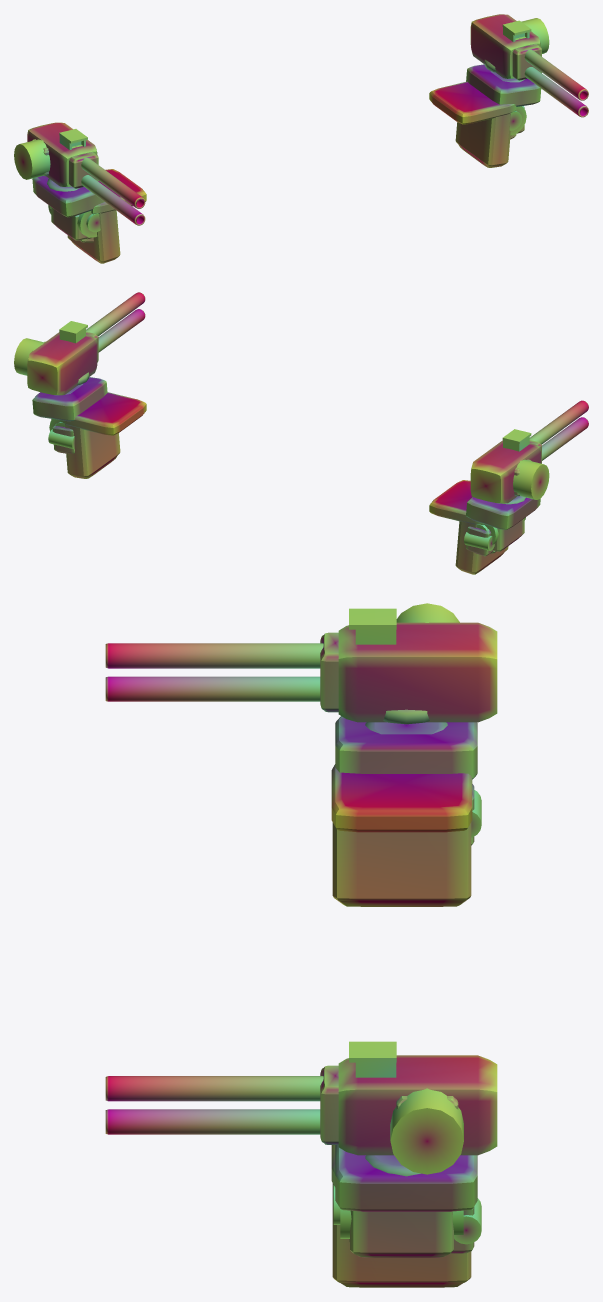
Rendered from llm_gen_shoulder_pods_082_828ca7.glb.
3 views of the same model, one above another, from view 1: azimuth 30°, elevation 25°; view 2: azimuth 150°, elevation 25°; view 3: azimuth 270°, elevation 25° (orthographic). The views are drawn at different scales.
Visible parts, largest first — view 1: adapter_shoulder_yoke_r, adapter_shoulder_yoke_l, turret_breech_2_cobalt_anodized_r, turret_adapter_base_0_adapter_dark_r, turret_breech_2_cobalt_anodized_l, turret_adapter_base_0_adapter_dark_l, ciws_drum_mag_5_crimson_gloss_l, ciws_barrel_top_6_barrel_metal_r, ciws_barrel_top_6_barrel_metal_l, ciws_barrel_bot_7_barrel_metal_l, ciws_barrel_bot_7_barrel_metal_r, adapter_sub_ciws_shroud_dark_3_adapter_dark_r (+4 smaller); view 2: adapter_shoulder_yoke_r, turret_breech_2_cobalt_anodized_r, adapter_shoulder_yoke_l, turret_breech_2_cobalt_anodized_l, turret_adapter_base_0_adapter_dark_r, turret_adapter_base_0_adapter_dark_l, ciws_drum_mag_5_crimson_gloss_l, ciws_barrel_top_6_barrel_metal_r, ciws_barrel_top_6_barrel_metal_l, ciws_barrel_bot_7_barrel_metal_r, ciws_barrel_bot_7_barrel_metal_l, ciws_drum_mag_5_crimson_gloss_r (+3 smaller); view 3: adapter_shoulder_yoke_l, turret_breech_2_cobalt_anodized_l, turret_breech_2_cobalt_anodized_r, adapter_shoulder_yoke_r, turret_adapter_base_0_adapter_dark_r, turret_adapter_base_0_adapter_dark_l, ciws_barrel_top_6_barrel_metal_l, ciws_barrel_top_6_barrel_metal_r, ciws_barrel_bot_7_barrel_metal_r, ciws_barrel_bot_7_barrel_metal_l, ciws_drum_mag_5_crimson_gloss_r, adapter_sub_turret_sensor_eye_8_dark_r (+5 smaller).
Part boxes in pixels (bbox=[...]): adapter_shoulder_yoke_r: bbox=[429, 81, 526, 167]; adapter_shoulder_yoke_l: bbox=[50, 169, 146, 263]; turret_breech_2_cobalt_anodized_r: bbox=[470, 14, 540, 78]; turret_adapter_base_0_adapter_dark_r: bbox=[466, 64, 541, 106]; turret_breech_2_cobalt_anodized_l: bbox=[27, 122, 97, 186]; turret_adapter_base_0_adapter_dark_l: bbox=[32, 176, 104, 217]; ciws_drum_mag_5_crimson_gloss_l: bbox=[14, 139, 50, 179]; ciws_barrel_top_6_barrel_metal_r: bbox=[524, 49, 588, 100]; ciws_barrel_top_6_barrel_metal_l: bbox=[81, 158, 145, 208]; ciws_barrel_bot_7_barrel_metal_l: bbox=[81, 175, 145, 225]; ciws_barrel_bot_7_barrel_metal_r: bbox=[524, 67, 588, 117]; adapter_sub_ciws_shroud_dark_3_adapter_dark_r: bbox=[512, 43, 541, 80]; adapter_shoulder_yoke_r: bbox=[49, 392, 146, 478]; turret_breech_2_cobalt_anodized_r: bbox=[27, 332, 97, 395]; adapter_shoulder_yoke_l: bbox=[429, 480, 525, 574]; turret_breech_2_cobalt_anodized_l: bbox=[470, 440, 540, 503]; turret_adapter_base_0_adapter_dark_r: bbox=[32, 377, 107, 421]; turret_adapter_base_0_adapter_dark_l: bbox=[466, 496, 540, 529]; ciws_drum_mag_5_crimson_gloss_l: bbox=[513, 459, 549, 499]; ciws_barrel_top_6_barrel_metal_r: bbox=[86, 292, 145, 336]; ciws_barrel_top_6_barrel_metal_l: bbox=[529, 400, 588, 444]; ciws_barrel_bot_7_barrel_metal_r: bbox=[98, 309, 145, 352]; ciws_barrel_bot_7_barrel_metal_l: bbox=[542, 417, 588, 460]; ciws_drum_mag_5_crimson_gloss_r: bbox=[14, 338, 44, 375]; adapter_shoulder_yoke_l: bbox=[331, 764, 472, 906]; turret_breech_2_cobalt_anodized_l: bbox=[338, 622, 497, 722]; turret_breech_2_cobalt_anodized_r: bbox=[338, 1055, 497, 1155]; adapter_shoulder_yoke_r: bbox=[331, 1145, 471, 1287]; turret_adapter_base_0_adapter_dark_r: bbox=[335, 1145, 477, 1211]; turret_adapter_base_0_adapter_dark_l: bbox=[335, 716, 477, 779]; ciws_barrel_top_6_barrel_metal_l: bbox=[105, 643, 323, 668]; ciws_barrel_top_6_barrel_metal_r: bbox=[105, 1076, 323, 1101]; ciws_barrel_bot_7_barrel_metal_r: bbox=[105, 1109, 320, 1134]; ciws_barrel_bot_7_barrel_metal_l: bbox=[105, 676, 320, 701]; ciws_drum_mag_5_crimson_gloss_r: bbox=[390, 1088, 463, 1174]; adapter_sub_turret_sensor_eye_8_dark_r: bbox=[349, 1041, 396, 1077].
Bounding box in the file's own units: 110 × 26.23 × 36.15.
